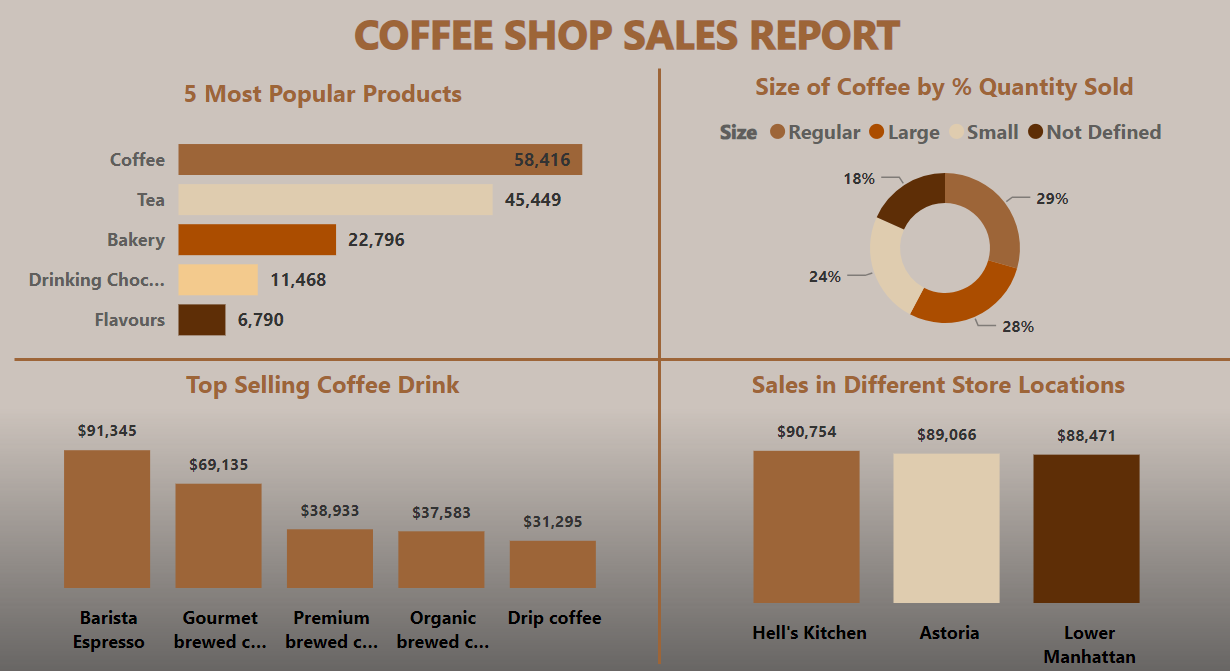

What the dashboard file says about the page in this screenshot:
{"tool":"powerbi","page":{"name":"Report 2","canvas":[841,464],"ordinal":1},"visuals":[{"type":"textbox","box":[99,0,645,59],"z":0},{"type":"clusteredColumnChart","title":"Sales in Different Store Locations","fields":{"Y":["Dax Measure.TotalSales"],"Category":["Coffee Sales Data.store_location"]},"box":[449,246,360,208],"z":1000},{"type":"shape","box":[437,47,12,397],"z":2000},{"type":"shape","box":[13,235,811,12],"z":3000},{"type":"clusteredColumnChart","title":"Top Selling Coffee Drink","fields":{"Y":["Dax Measure.TotalSales for Coffee"],"Category":["Coffee Sales Data.product_type"]},"box":[0,246,437,198],"z":4000},{"type":"clusteredBarChart","title":"5 Most Popular Products ","fields":{"Category":["Coffee Sales Data.product_category"],"Y":["Dax Measure.TotalTransactions"]},"box":[0,52,437,189],"z":5000},{"type":"donutChart","title":"Size of Coffee by % Quantity Sold","fields":{"Category":["Coffee Sales Data.Size"],"Y":["Dax Measure.TotalQuantity"],"Series":["Coffee Sales Data.product_category"]},"box":[449,47,368,188],"z":6000}]}

Visuals, with their boxes in screenshot pixels (x1, y1, x2, y2), scaled from the page's 841x464 canvas onto the 1231x671 screenshot:
textbox: detection(145, 0, 1089, 85)
"Sales in Different Store Locations" clusteredColumnChart: detection(657, 356, 1184, 657)
shape: detection(640, 68, 657, 642)
shape: detection(19, 340, 1206, 357)
"Top Selling Coffee Drink" clusteredColumnChart: detection(0, 356, 640, 642)
"5 Most Popular Products " clusteredBarChart: detection(0, 75, 640, 349)
"Size of Coffee by % Quantity Sold" donutChart: detection(657, 68, 1196, 340)
